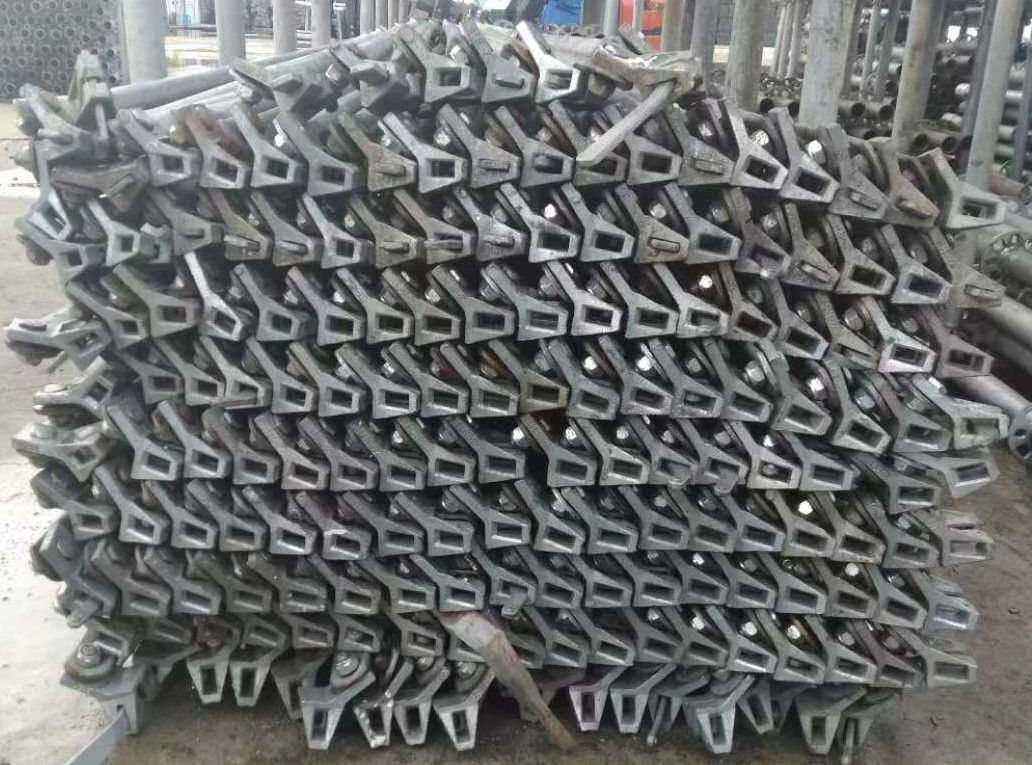THsquare_steel_blocked: (75, 57, 112, 101)
sigma_steel: (769, 397, 833, 437), (831, 415, 891, 456), (775, 319, 829, 363), (948, 190, 1006, 230), (895, 415, 953, 455), (57, 322, 105, 369), (734, 152, 785, 196), (784, 165, 838, 206), (689, 227, 741, 269), (30, 189, 71, 242), (580, 227, 635, 266), (895, 269, 951, 307), (434, 705, 479, 752), (693, 706, 737, 754), (461, 305, 516, 343), (936, 343, 991, 381), (883, 339, 936, 378), (840, 260, 894, 298), (299, 699, 339, 750), (566, 386, 621, 423), (630, 146, 682, 185), (824, 652, 878, 689), (875, 592, 927, 630), (926, 594, 978, 632), (806, 456, 854, 497), (517, 376, 570, 413), (831, 528, 884, 565), (885, 535, 938, 572), (625, 303, 679, 339), (940, 531, 991, 569), (545, 449, 597, 486), (924, 651, 976, 688), (414, 153, 462, 193), (423, 61, 471, 101), (147, 299, 196, 338), (893, 479, 942, 518), (729, 640, 778, 679), (251, 305, 301, 343), (421, 520, 471, 558), (303, 160, 354, 197), (568, 685, 609, 731), (352, 701, 392, 748), (117, 583, 170, 618), (385, 579, 438, 614), (200, 302, 243, 345), (147, 148, 193, 188), (570, 301, 621, 337), (622, 381, 673, 417), (798, 707, 837, 754), (532, 521, 584, 556), (247, 152, 297, 188), (729, 308, 779, 344), (83, 625, 133, 661), (57, 443, 103, 482), (515, 305, 566, 340), (639, 516, 688, 552), (185, 654, 221, 703), (578, 152, 628, 187), (470, 385, 520, 420), (600, 452, 650, 487), (417, 386, 470, 419), (199, 153, 245, 191), (592, 631, 638, 669), (679, 636, 726, 673), (78, 372, 114, 420), (528, 229, 577, 264), (724, 388, 773, 423), (277, 458, 326, 493), (315, 310, 361, 347), (780, 580, 826, 617), (634, 632, 680, 669), (275, 582, 325, 616), (365, 307, 412, 343), (785, 525, 832, 561), (544, 634, 591, 670), (736, 521, 784, 556), (274, 670, 309, 718), (414, 310, 459, 347), (316, 235, 362, 271), (137, 370, 183, 406), (612, 688, 648, 734), (726, 578, 776, 611), (369, 386, 416, 421), (52, 243, 90, 286), (375, 523, 423, 557), (877, 660, 925, 694), (313, 383, 358, 419), (376, 459, 425, 492), (269, 381, 315, 416), (740, 689, 775, 735), (826, 586, 876, 618), (230, 453, 277, 487), (265, 523, 312, 557), (688, 521, 735, 555), (106, 314, 148, 352), (117, 511, 161, 547), (426, 454, 474, 487), (218, 519, 263, 554), (173, 583, 218, 618), (241, 618, 286, 653), (477, 451, 523, 485), (632, 575, 678, 609), (482, 515, 529, 548), (589, 522, 637, 554), (682, 572, 727, 606), (329, 461, 375, 494), (322, 528, 368, 561), (395, 702, 430, 745), (132, 450, 179, 482), (169, 518, 214, 551), (184, 371, 224, 408), (438, 580, 484, 612), (287, 618, 333, 650), (194, 618, 243, 648), (538, 576, 581, 610), (178, 449, 225, 480), (331, 584, 378, 615), (229, 661, 260, 708), (105, 229, 143, 267), (504, 634, 544, 669), (224, 584, 269, 615), (586, 577, 630, 608), (10, 318, 57, 346), (69, 507, 110, 538), (143, 619, 193, 644), (448, 635, 483, 665)
sigma_steel_blocked: (830, 179, 888, 224), (952, 406, 1009, 450), (886, 190, 939, 232), (630, 230, 690, 267), (57, 580, 112, 620), (352, 61, 397, 109), (789, 253, 839, 296), (680, 149, 733, 189), (521, 148, 572, 188), (741, 238, 790, 279), (948, 274, 1005, 309), (484, 64, 533, 104), (469, 149, 518, 188), (829, 334, 879, 372), (671, 384, 721, 422), (753, 454, 802, 492), (367, 154, 415, 192), (268, 68, 309, 112), (678, 306, 728, 342), (699, 451, 748, 487), (371, 233, 418, 270), (648, 450, 695, 487), (777, 648, 825, 684), (395, 622, 443, 658), (424, 231, 474, 265), (537, 64, 578, 105), (170, 218, 213, 257), (267, 234, 313, 269), (475, 230, 522, 264), (39, 125, 83, 161), (224, 229, 269, 264), (489, 573, 536, 606), (334, 622, 382, 652), (224, 378, 267, 410), (648, 691, 681, 731), (840, 713, 870, 753)
